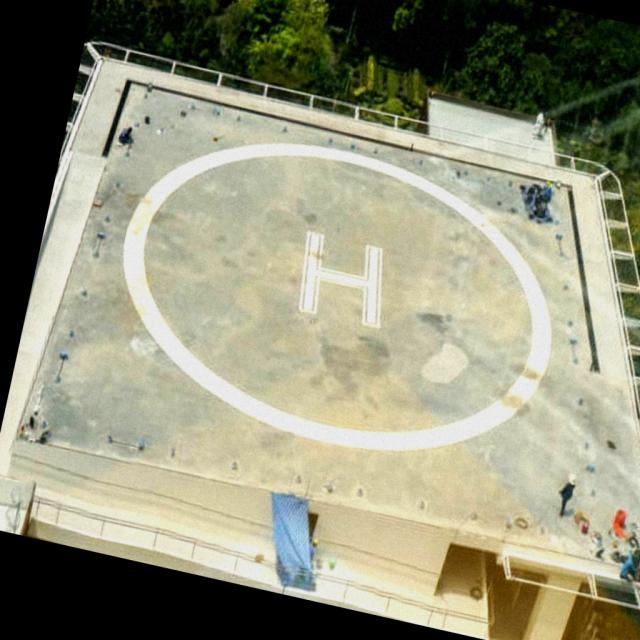helipad: (116, 137, 556, 455)
